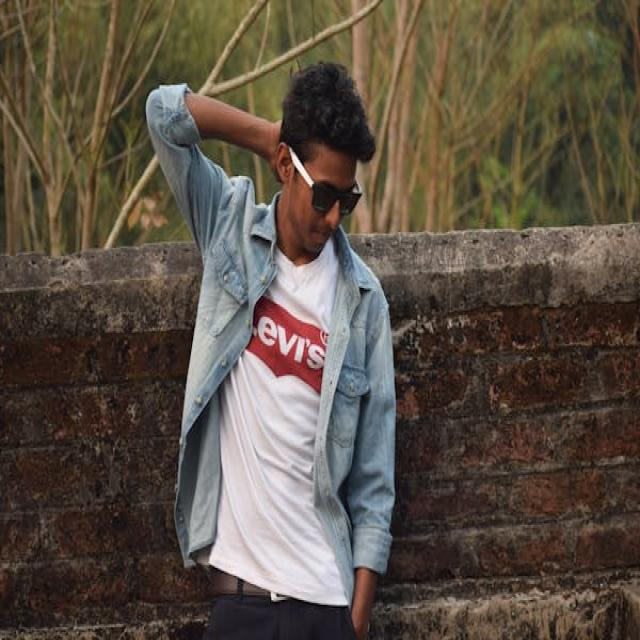Real human 2: (159, 61, 398, 640)
